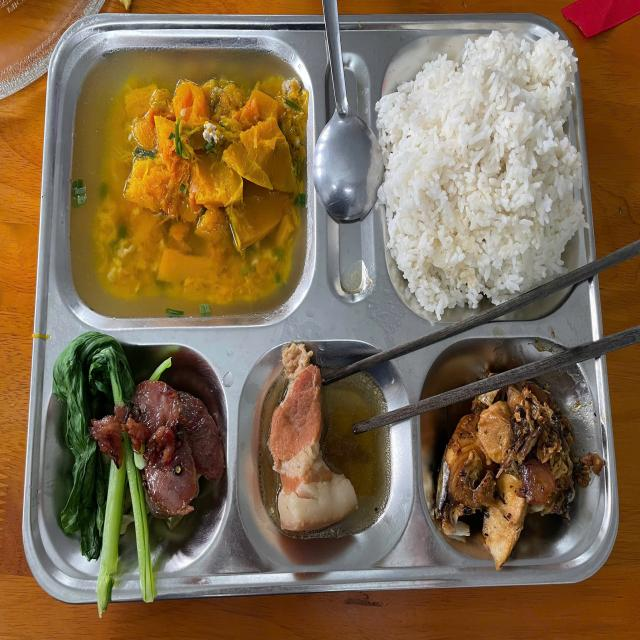caithia: (53, 329, 158, 626)
cakho: (436, 375, 579, 558)
canhbido: (71, 51, 306, 318)
salad: (378, 41, 582, 308)
suonram: (86, 377, 231, 525)
thitkhogung: (260, 360, 388, 543)
